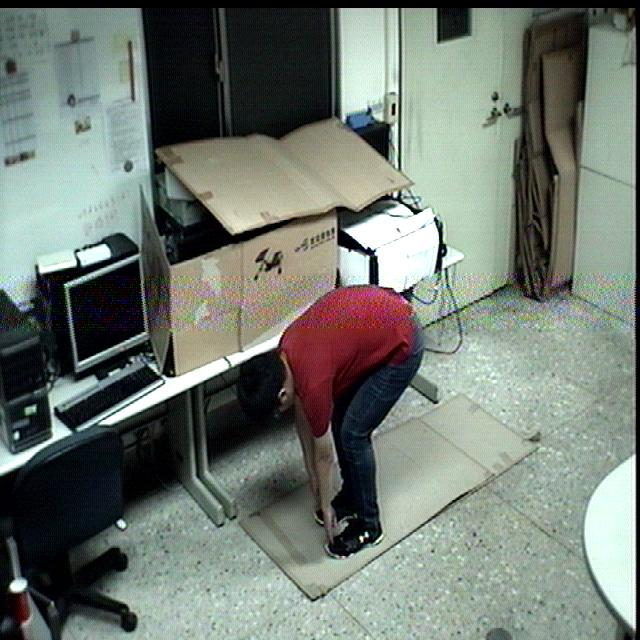bend: (233, 282, 433, 560)
